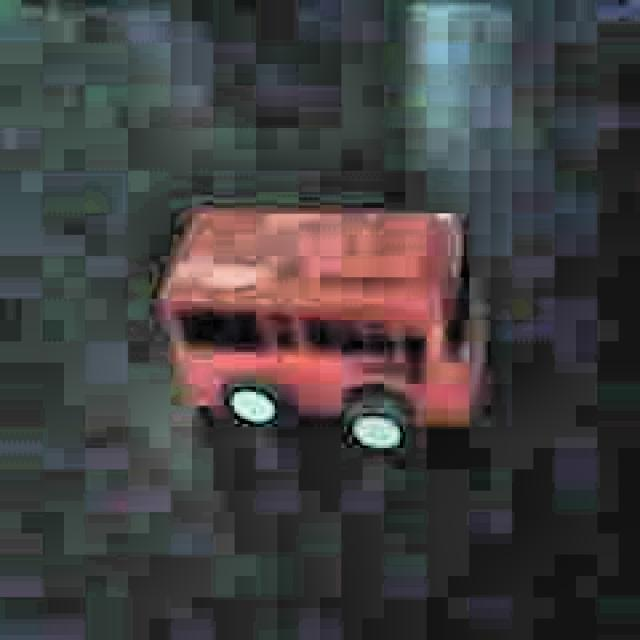bus: (153, 194, 490, 462)
